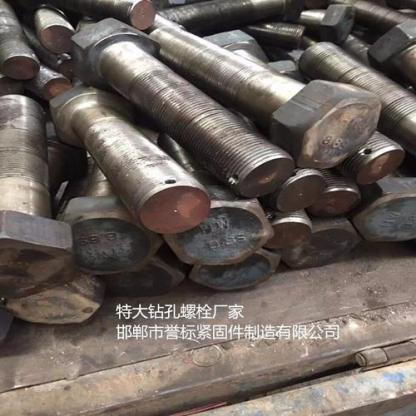FOD: (69, 17, 297, 198)
